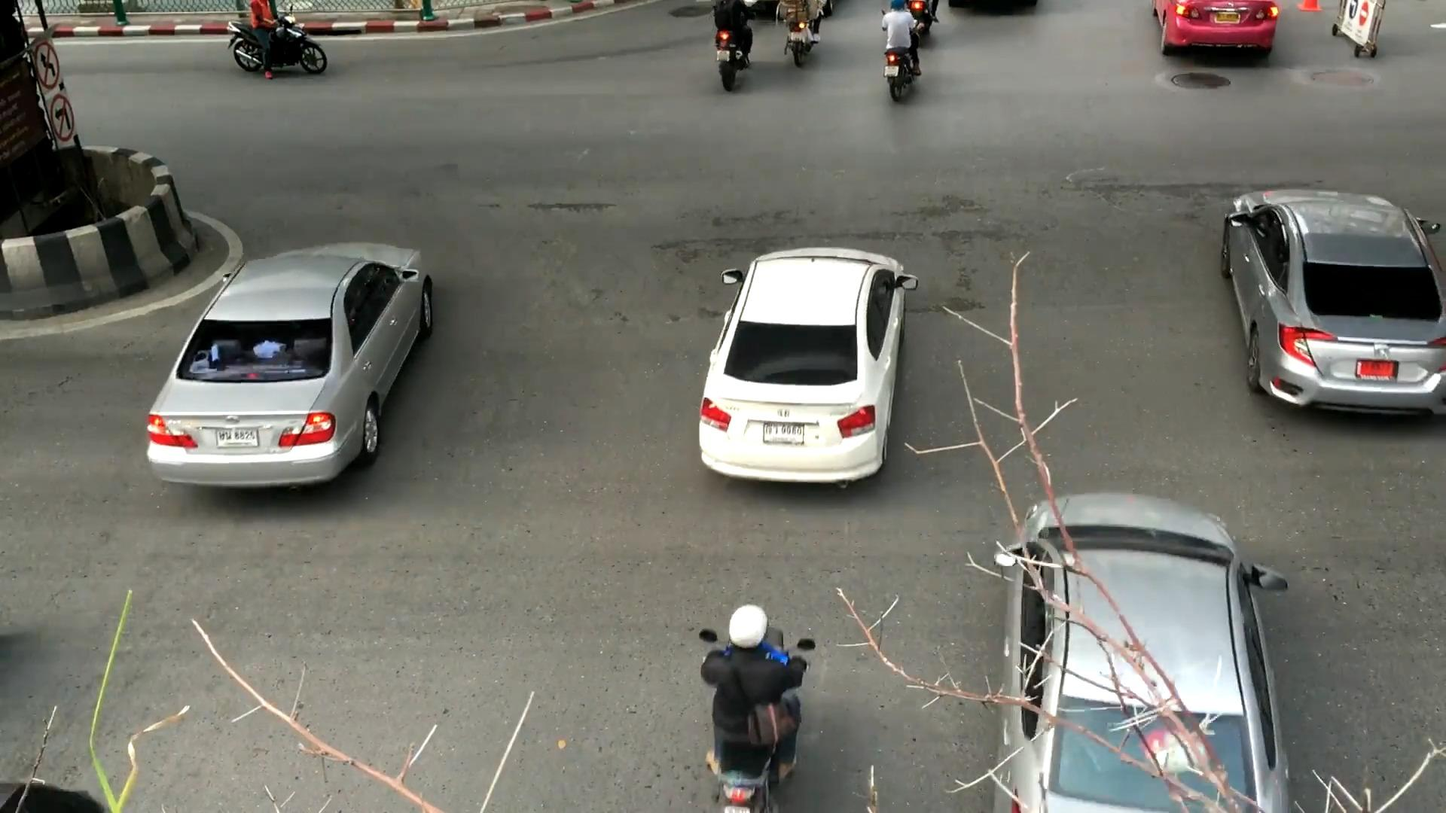driver: (700, 605, 816, 813), (226, 0, 328, 79), (881, 0, 925, 102), (712, 0, 756, 93), (776, 0, 824, 68)
helmet: (729, 604, 769, 650)
